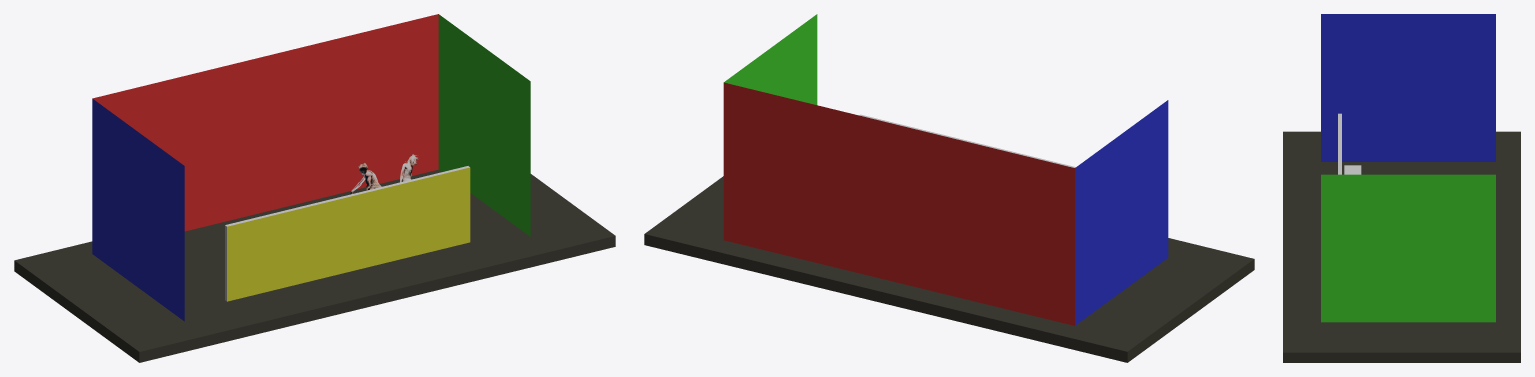
Rendered from sunline v10.dae.
3 renders of one model, left to right at view 1: azimuth 30°, elevation 25°; view 2: azimuth 150°, elevation 25°; view 3: azimuth 270°, elevation 25°, orthographic. The views are drawn at different scales.
Visible parts, largest first — view 1: front, floor, desktop, left, right, deskbase; view 2: front, floor, left, right; view 3: right, left, floor, deskbase.
Part boxes in pixels (x1,y1,x2,y2): front: (92, 14, 438, 231); floor: (14, 169, 615, 362); desktop: (227, 167, 470, 301); left: (92, 98, 184, 321); right: (438, 14, 530, 236); deskbase: (225, 166, 469, 301); front: (723, 82, 1074, 325); floor: (644, 176, 1254, 362); left: (1075, 100, 1168, 325); right: (724, 14, 817, 104); right: (1321, 174, 1495, 322); left: (1321, 14, 1495, 161); floor: (1283, 131, 1520, 362); deskbase: (1338, 113, 1341, 174).
Bounding box in the file's own units: 19.15 × 6.4 × 8.72.
Materials: 8 (2 with a texture image).
